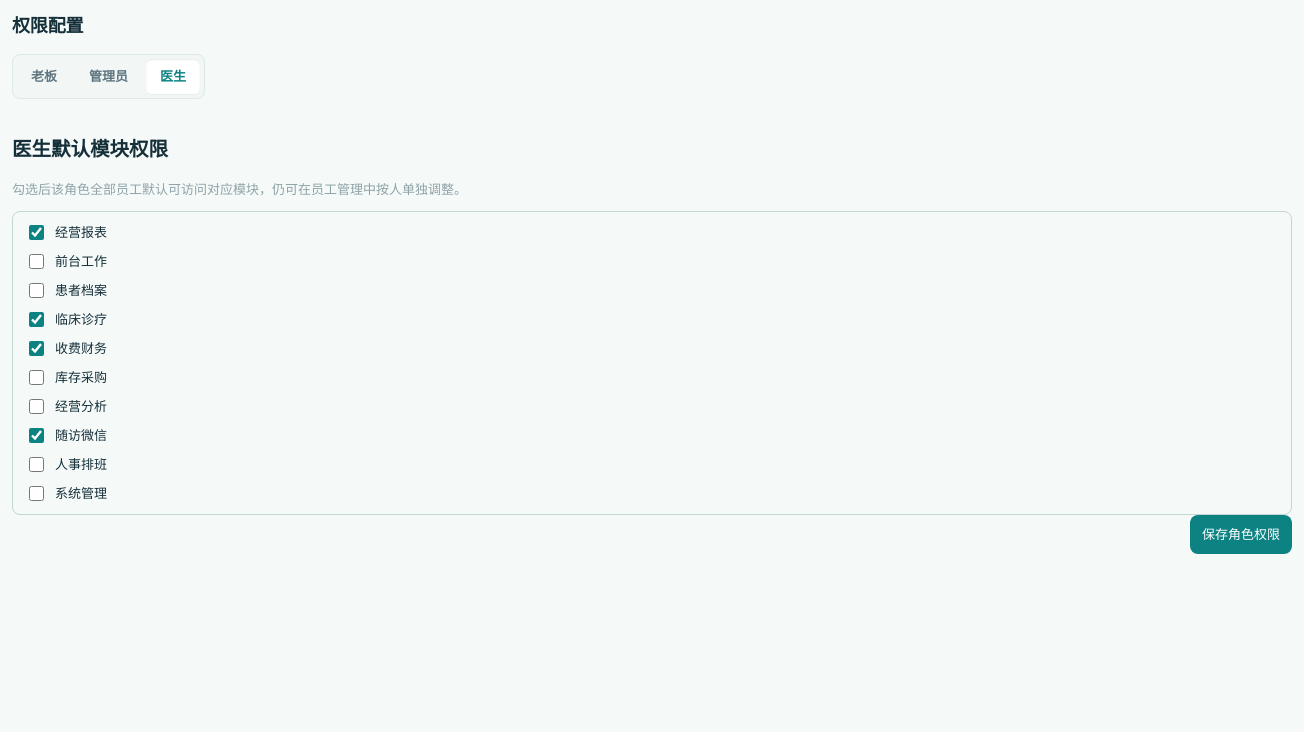
PermissionsPage › switches role tabs and refetches permissions
Expected: the heading "医生默认模块权限" is shown, [12,135,168,162]
What coordinates should you click on to do the following:
click the tab "老板"
I would click on:
 (44, 76)
Its box is [17,59,71,94].
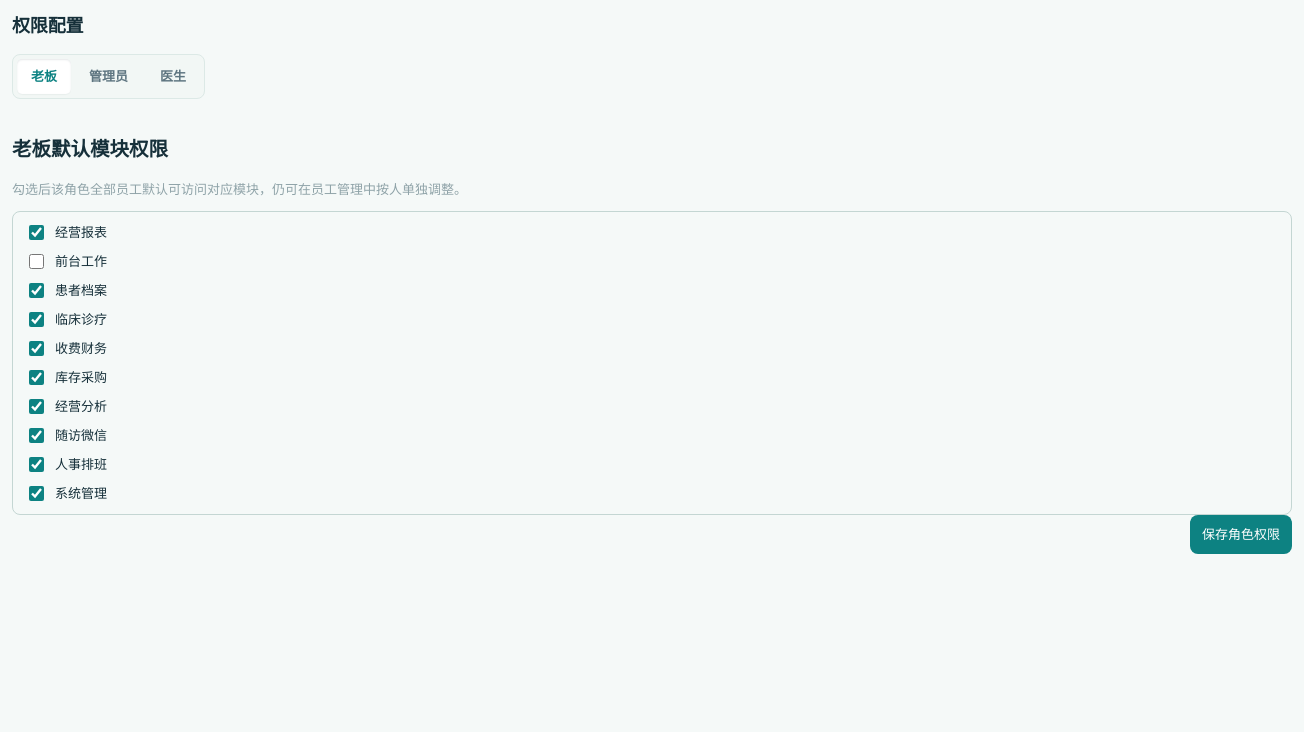
Expected: the heading "老板默认模块权限" is shown, [12,135,168,162]
Expected: the checkbox labelled "人事排班" is checked, [29,457,44,472]
